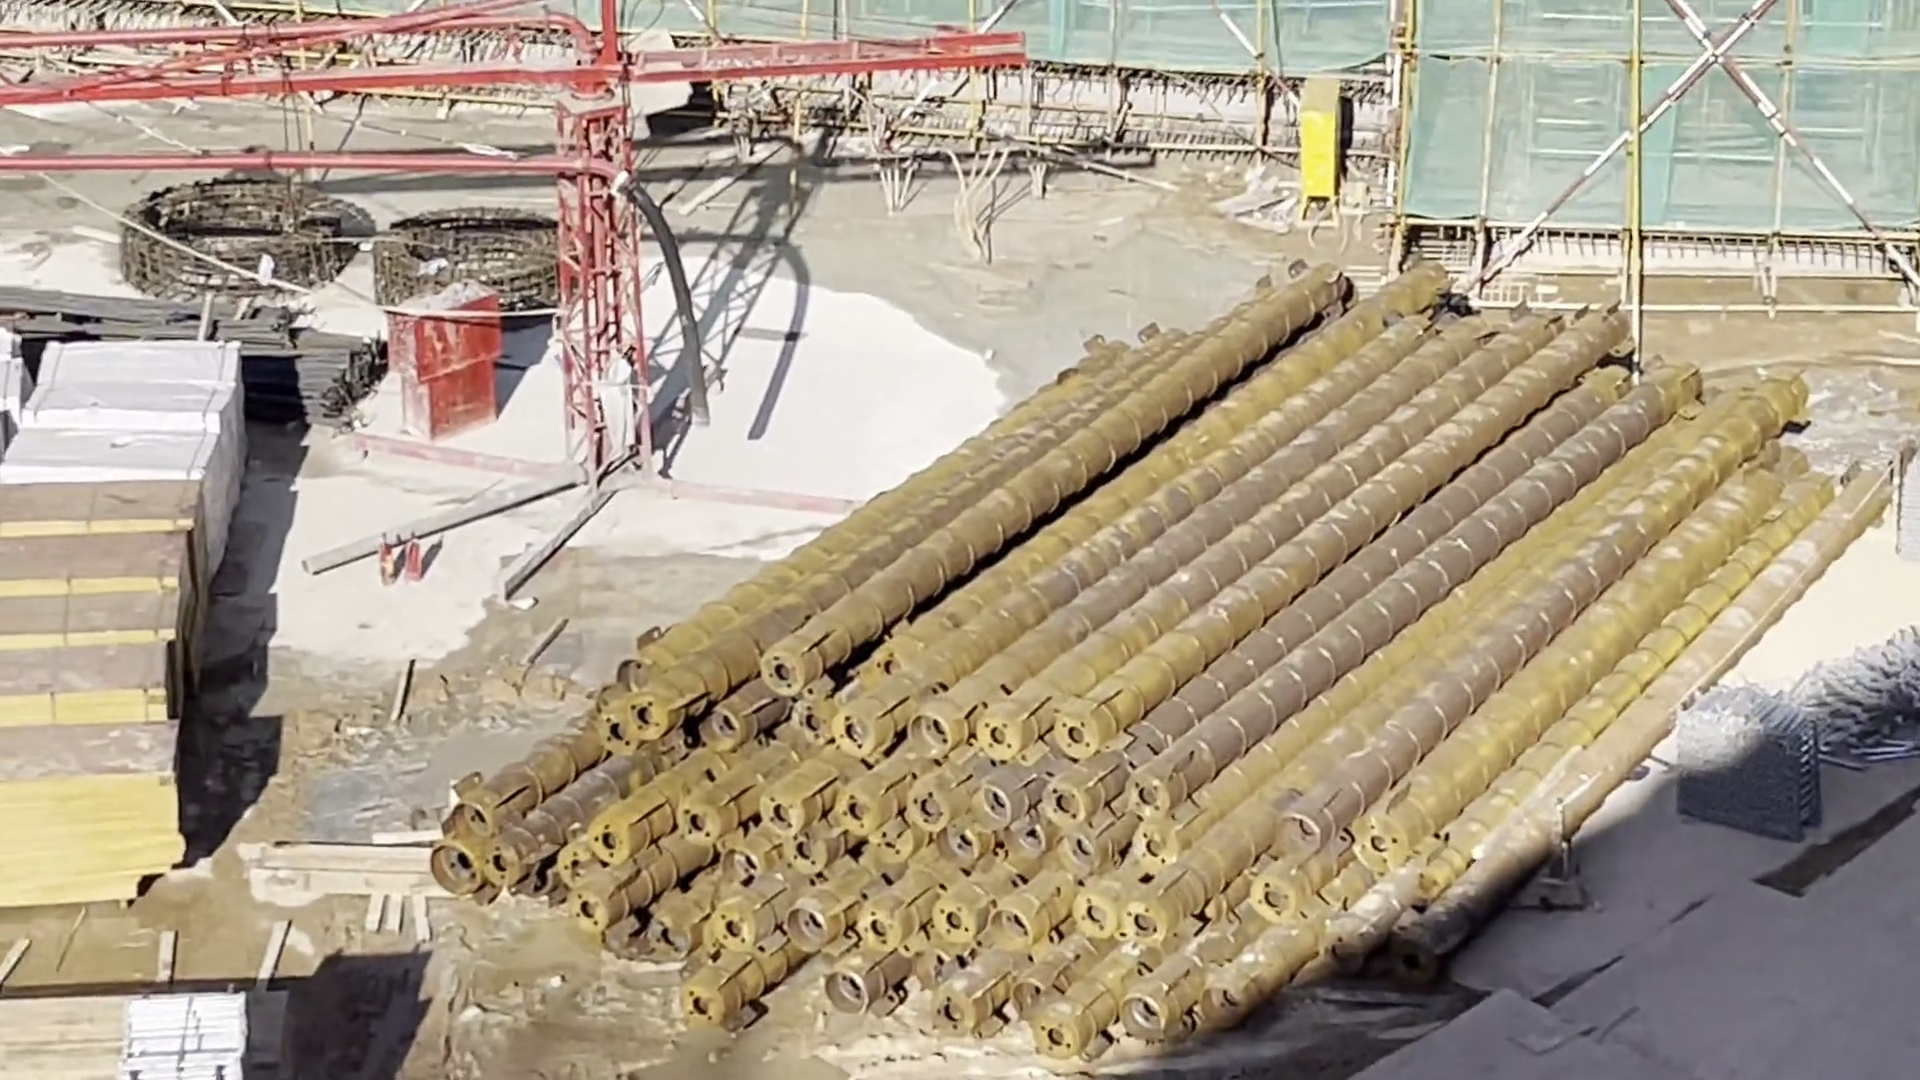board: (1, 480, 202, 880), (3, 992, 125, 1080)
ebox: (1302, 70, 1346, 211)
rebar: (12, 284, 378, 418)
scaffold: (133, 996, 247, 1080)
